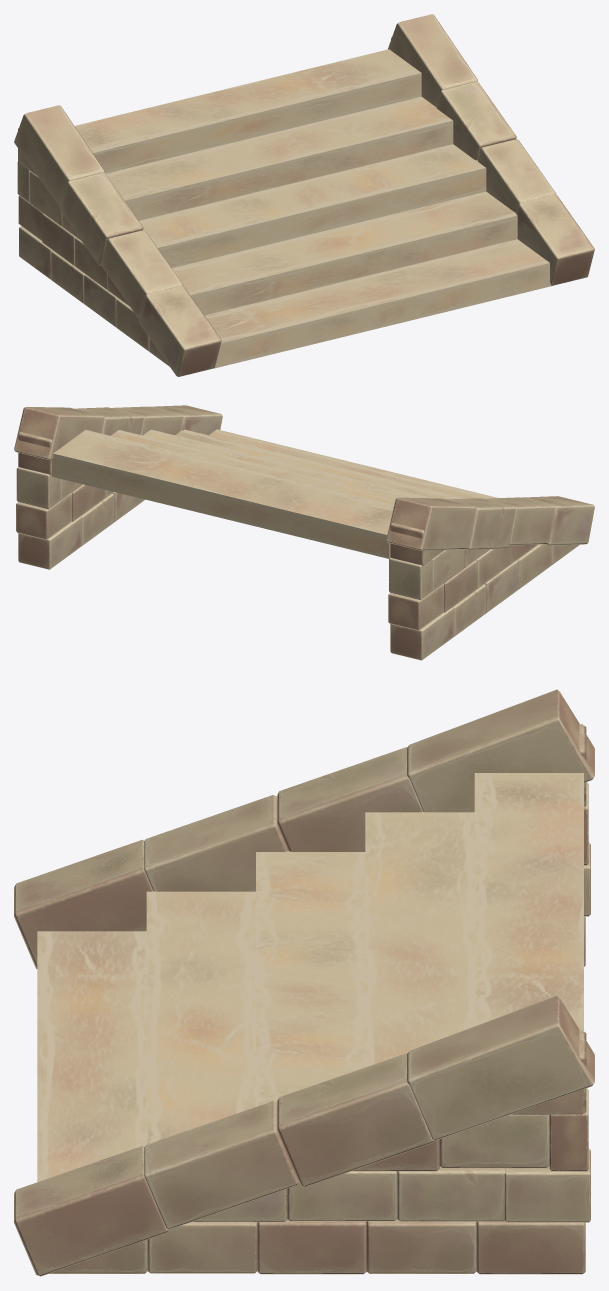
The model's file is exteriorstairs.fbx.
3 renders of one model, top to bottom at view 1: azimuth 30°, elevation 25°; view 2: azimuth 150°, elevation 25°; view 3: azimuth 270°, elevation 25°, orthographic. The views are drawn at different scales.
Visible parts, largest first — view 1: exteriorstairs_LOD0; view 2: exteriorstairs_LOD0; view 3: exteriorstairs_LOD0.
Part boxes in pixels (bbox=[...]): exteriorstairs_LOD0: bbox=[14, 14, 594, 376]; exteriorstairs_LOD0: bbox=[14, 405, 594, 660]; exteriorstairs_LOD0: bbox=[14, 689, 594, 1276].
Bounding box in the file's own units: 3.66 × 1.28 × 2.66.
